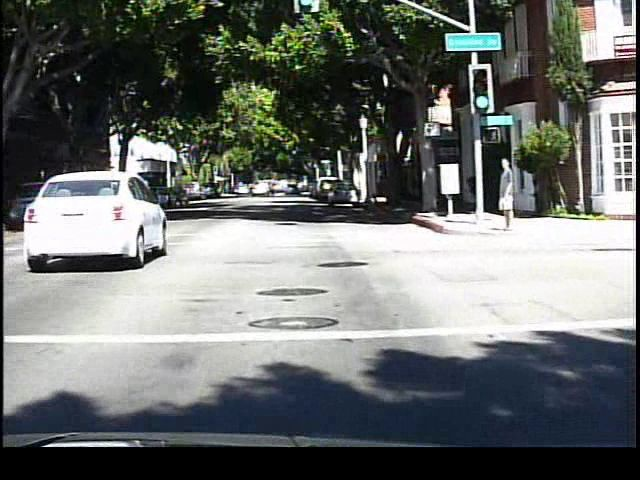person: (493, 153, 520, 234)
